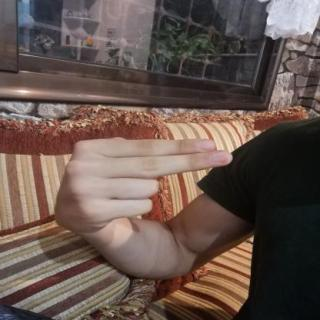AYN: (44, 129, 245, 243)
